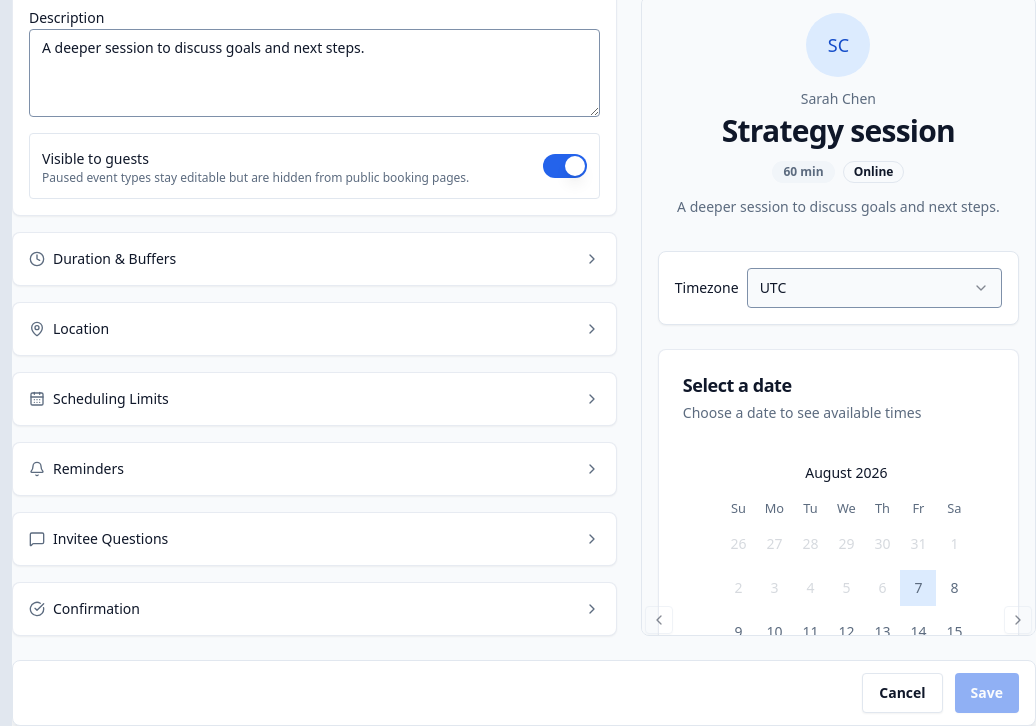
Test: EditEventTypePage editor › loads the event type selected from the event types list
The width and height of the screenshot is (1036, 726).
(page scrolled)
expect the text "Sarah Chen" is shown: met, box [801,89,876,109]
expect the text "60 min" is shown: met, box [772,161,835,183]
Click the button "Reminders".
click(88, 468)  # box [13,443,616,495]
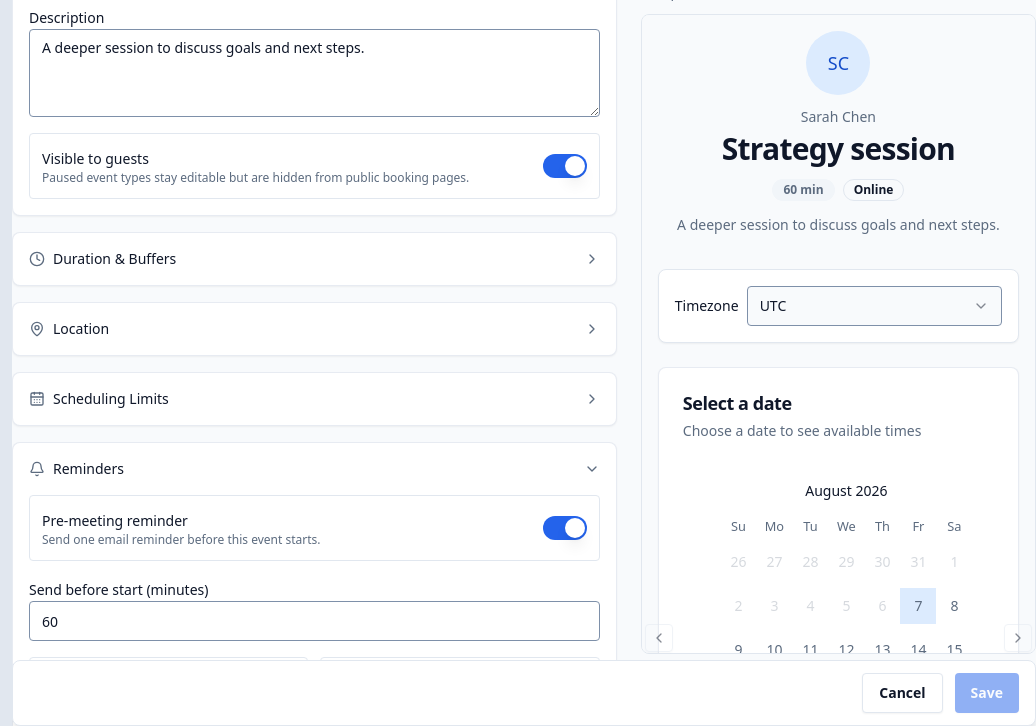
expect the number field labelled "Send before start (minutes)" holds "60": met, box [29,601,600,641]
